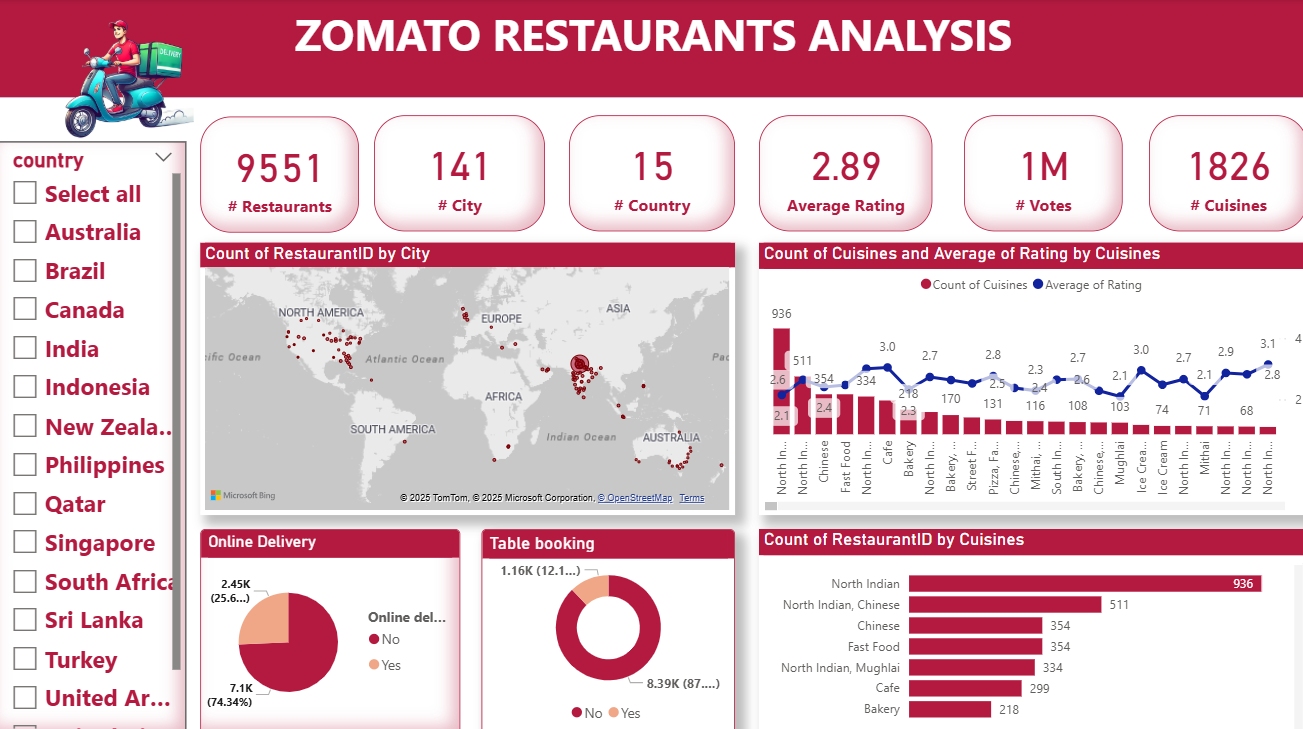

This screenshot's page, from the dashboard's own definition file:
{"tool":"powerbi","page":{"name":"Page 1","canvas":[1280,720],"ordinal":0},"visuals":[{"type":"shape","box":[0,0,1280.3,96.1],"z":0},{"type":"textbox","box":[0,0,1280.3,96.1],"z":1000},{"type":"card","fields":{"Values":["CountNonNull(Restaurent.RestaurantID)"]},"box":[196.9,114.9,155.3,113.7],"z":2000},{"type":"card","fields":{"Values":["Count(Restaurent.City)"]},"box":[366.8,113.7,167.5,113.7],"z":3000},{"type":"card","fields":{"Values":["Count(Restaurent.CountryCode)"]},"box":[557.6,113.7,162.6,113.7],"z":4000},{"type":"card","fields":{"Values":["Avg(Restaurent.Rating)"]},"box":[743.5,113.7,170,113.7],"z":5000},{"type":"card","fields":{"Values":["Sum(Restaurent.Votes)"]},"box":[944,113.7,155.3,113.7],"z":6000},{"type":"card","fields":{"Values":["Count(Restaurent.Cuisines)"]},"box":[1125,113.7,155.3,113.7],"z":7000},{"type":"slicer","fields":{"Values":["countries.country name"]},"box":[0,139.4,183.4,580.8],"z":8000},{"type":"lineStackedColumnComboChart","fields":{"Category":["Restaurent.Cuisines"],"Y":["CountNonNull(Restaurent.Cuisines)"],"Y2":["Avg(Restaurent.Rating)"]},"box":[743.5,238.5,536.8,266.6],"z":9000},{"type":"map","fields":{"Category":["Restaurent.City"],"Size":["CountNonNull(Restaurent.RestaurantID)"]},"box":[196.9,238.5,523.4,266.6],"z":10000},{"type":"clusteredBarChart","fields":{"Category":["Restaurent.Cuisines"],"Y":["CountNonNull(Restaurent.RestaurantID)"]},"box":[743.5,518.5,536.8,201.8],"z":11000},{"type":"pieChart","title":"Online Delivery ","fields":{"Category":["Restaurent.Has_Online_delivery"],"Y":["CountNonNull(Restaurent.RestaurantID)"]},"box":[196.9,518.5,254.3,201.8],"z":12000},{"type":"donutChart","title":"Table booking","fields":{"Category":["Restaurent.Has_Table_booking"],"Y":["CountNonNull(Restaurent.RestaurantID)"]},"box":[472,518.5,248.2,201.8],"z":13000},{"type":"image","box":[0,0,240.9,149.2],"z":13001}]}

Visuals, with their boxes in screenshot pixels (x1, y1, x2, y2), scaled from the page's 1280x720 canvas onto the 1303x729 screenshot:
shape: [x1=0, y1=0, x2=1302, y2=97]
textbox: [x1=0, y1=0, x2=1302, y2=97]
card - CountNonNull(Restaurent.RestaurantID): [x1=200, y1=116, x2=359, y2=231]
card - Count(Restaurent.City): [x1=373, y1=115, x2=544, y2=230]
card - Count(Restaurent.CountryCode): [x1=568, y1=115, x2=733, y2=230]
card - Avg(Restaurent.Rating): [x1=757, y1=115, x2=930, y2=230]
card - Sum(Restaurent.Votes): [x1=961, y1=115, x2=1119, y2=230]
card - Count(Restaurent.Cuisines): [x1=1145, y1=115, x2=1302, y2=230]
slicer - countries.country name: [x1=0, y1=141, x2=187, y2=728]
lineStackedColumnComboChart - Restaurent.Cuisines x CountNonNull(Restaurent.Cuisines): [x1=757, y1=241, x2=1302, y2=511]
map - Restaurent.City x CountNonNull(Restaurent.RestaurantID): [x1=200, y1=241, x2=733, y2=511]
clusteredBarChart - Restaurent.Cuisines x CountNonNull(Restaurent.RestaurantID): [x1=757, y1=525, x2=1302, y2=728]
"Online Delivery " pieChart: [x1=200, y1=525, x2=459, y2=728]
"Table booking" donutChart: [x1=480, y1=525, x2=733, y2=728]
image: [x1=0, y1=0, x2=245, y2=151]
